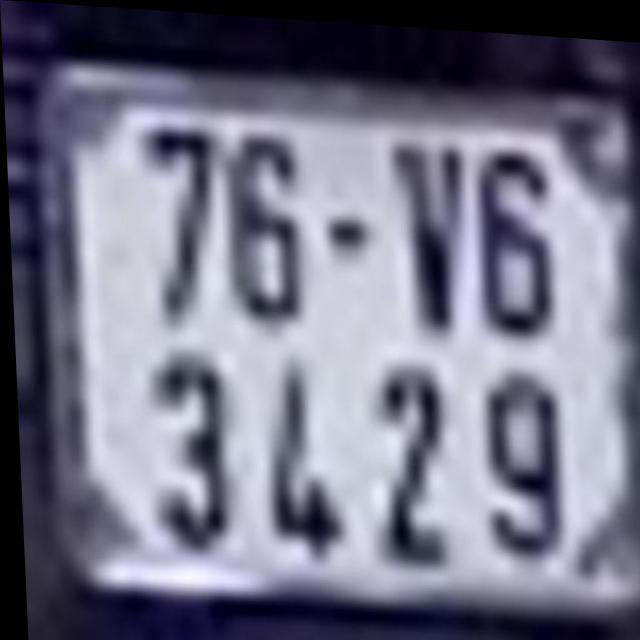2: (357, 357, 457, 567)
3: (140, 342, 246, 551)
4: (258, 351, 344, 562)
6: (220, 123, 309, 331), (474, 135, 559, 328)
7: (135, 111, 223, 330)
9: (477, 354, 565, 570)
V: (378, 125, 472, 329)
